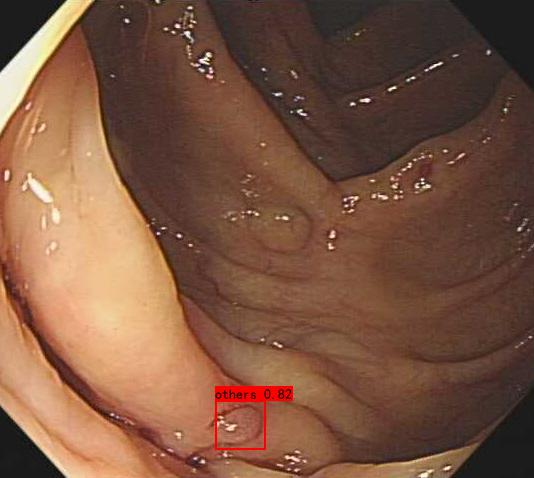others: (211, 404, 264, 448)
